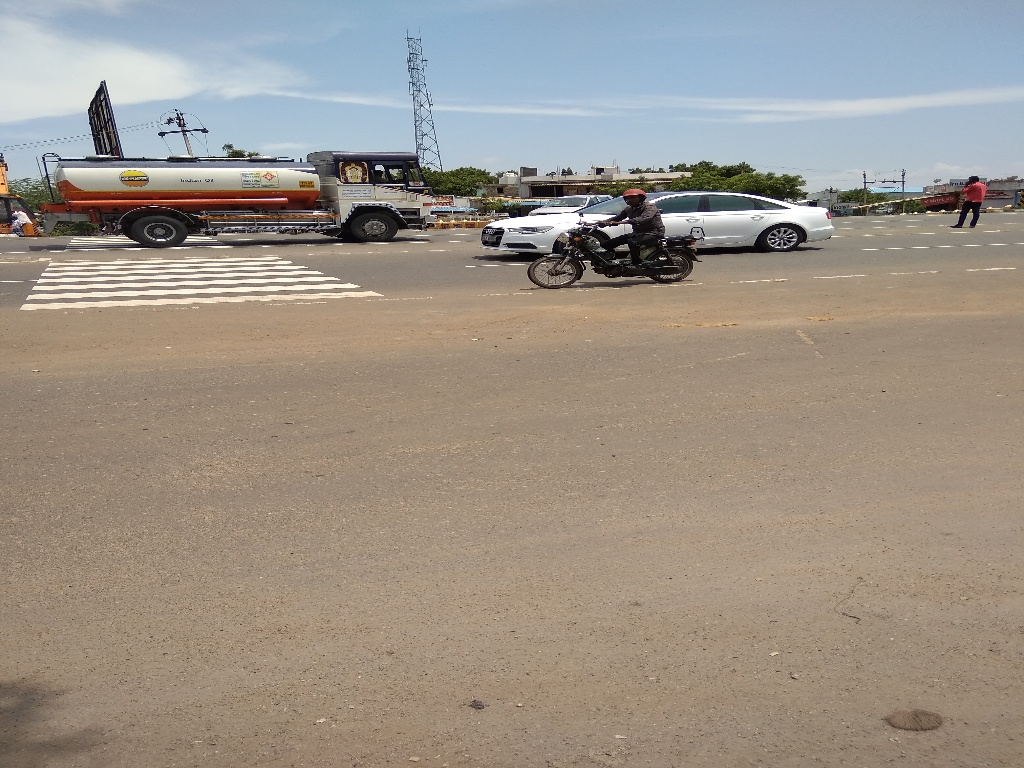biker: (514, 162, 718, 298)
helmet: (613, 181, 658, 215)
